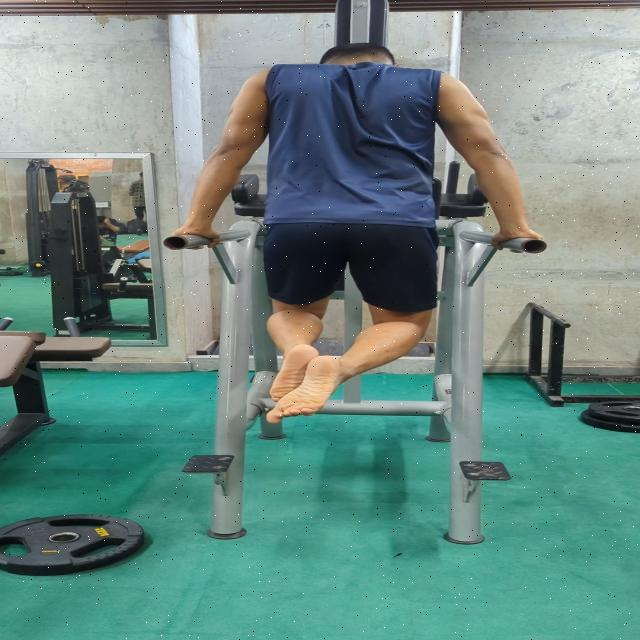Normal_Dips: (163, 33, 560, 430)
